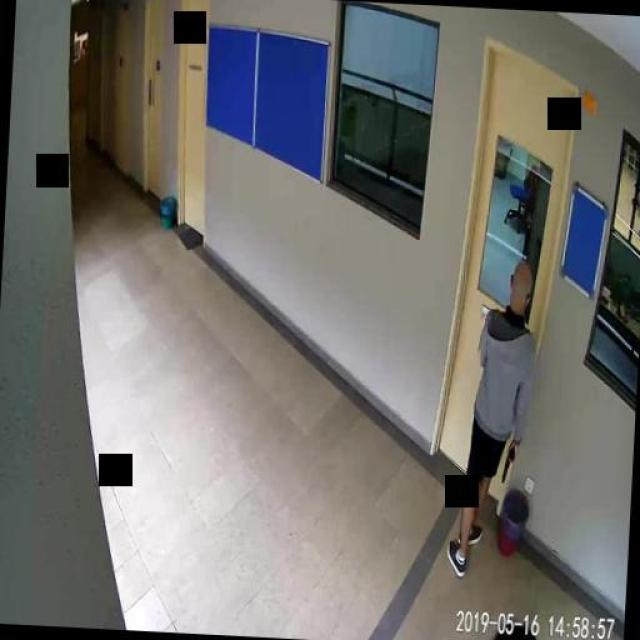gun: (502, 438, 518, 482)
